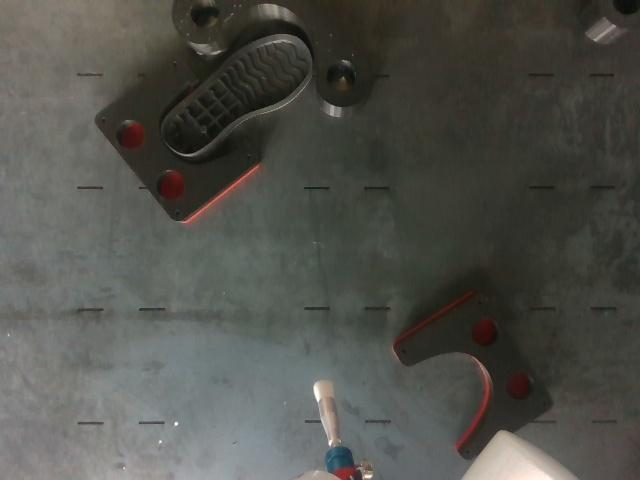shoes: (163, 35, 310, 155)
